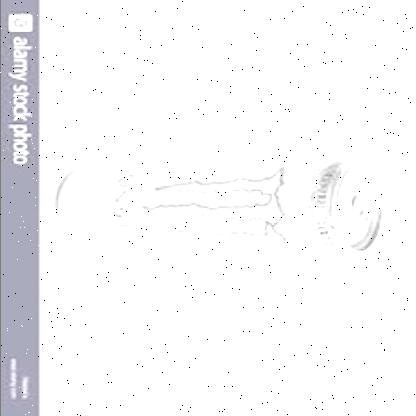Can: (55, 160, 382, 254)
